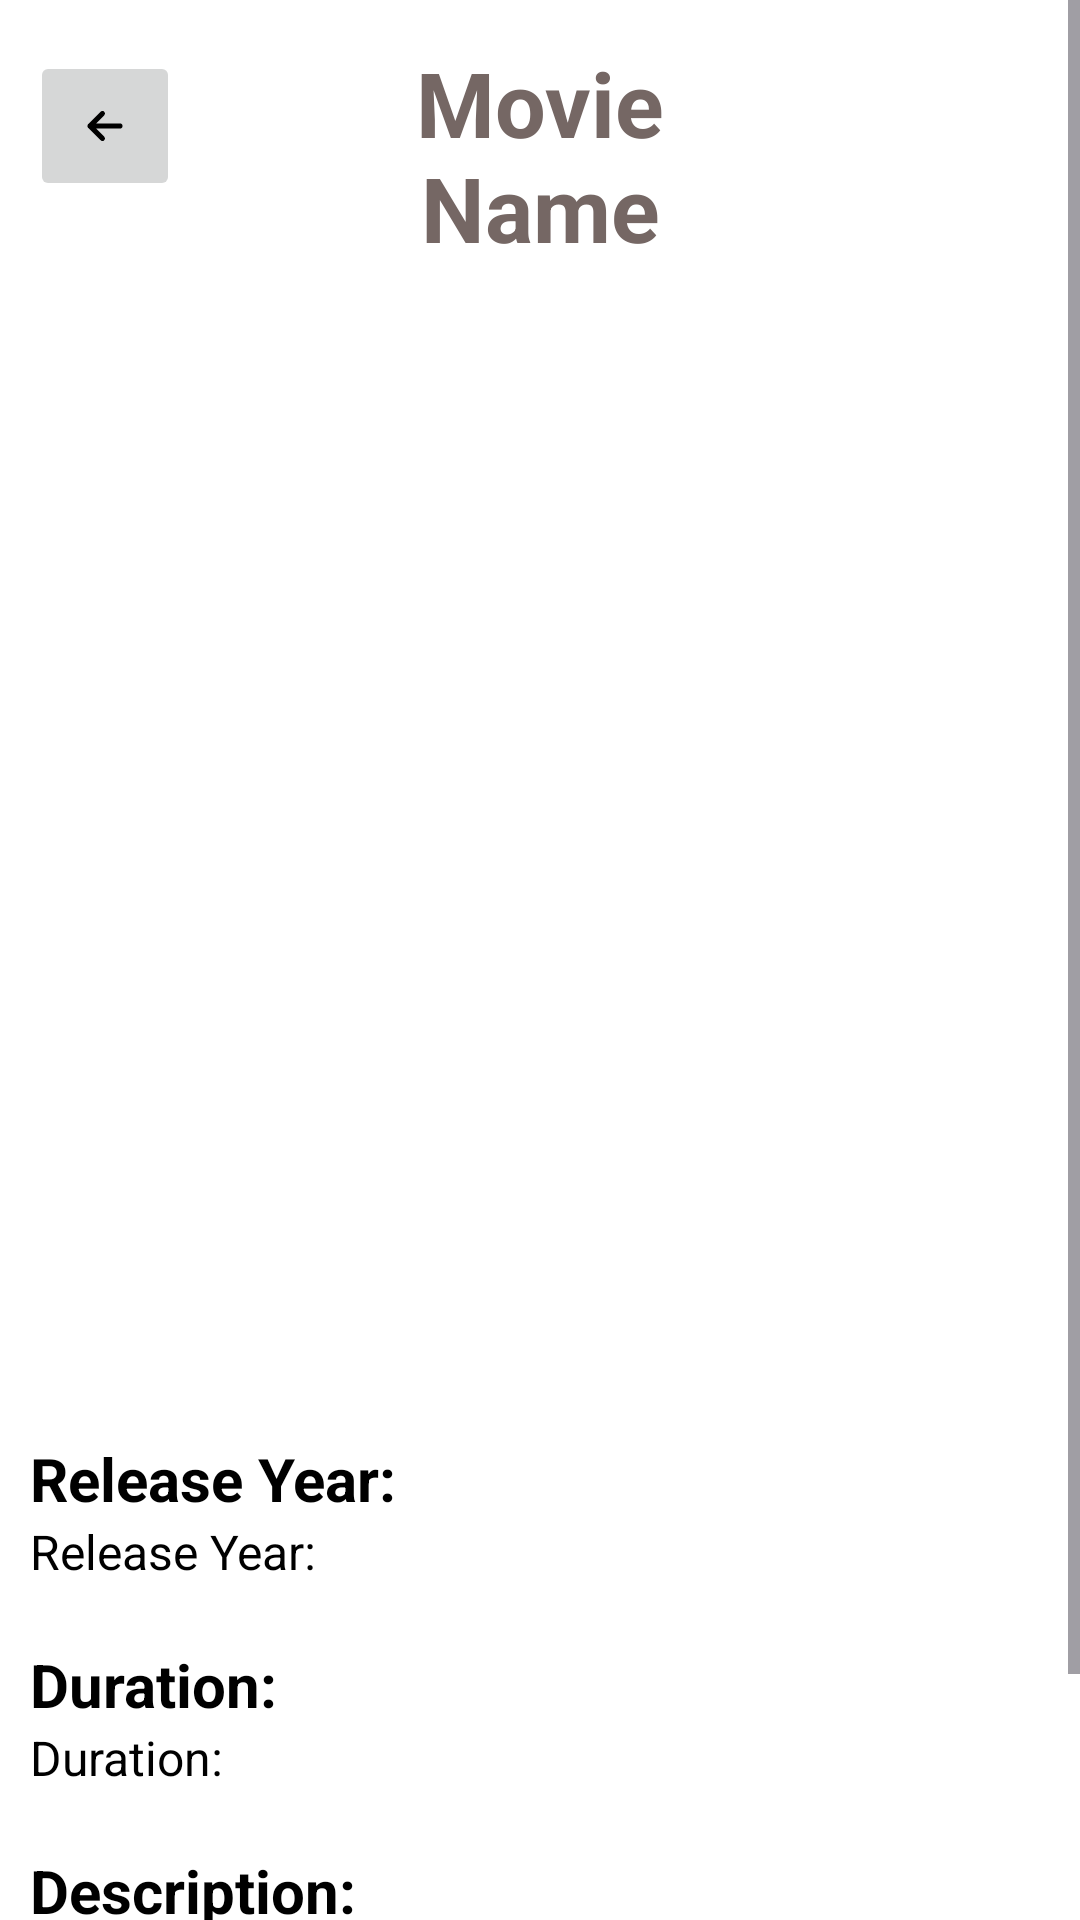

Icon click points for this 1080 x 1920 phone screenshot, format (x,y):
Back: (105,126)
